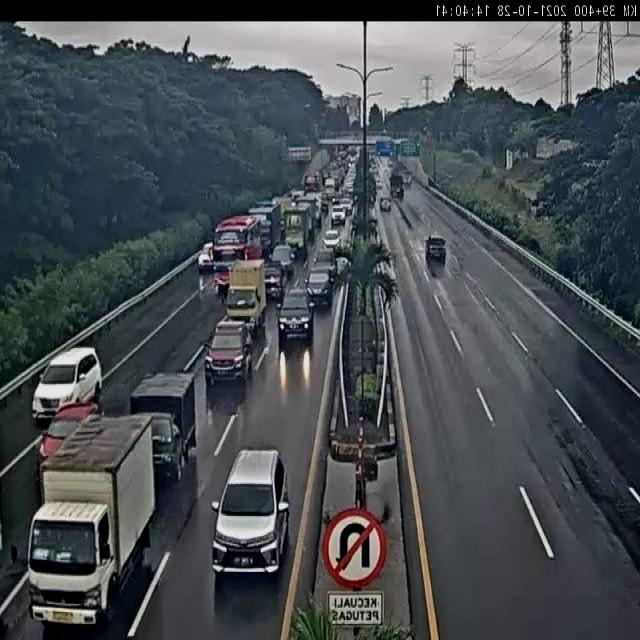Bus: (211, 214, 264, 294), (247, 201, 283, 259)
Car: (211, 446, 290, 575), (34, 345, 104, 425), (204, 320, 254, 387), (277, 288, 313, 349), (306, 270, 334, 310), (270, 244, 294, 282), (426, 234, 446, 261), (314, 249, 335, 274), (323, 229, 341, 251), (335, 256, 350, 279), (332, 206, 346, 226)
Truck: (29, 413, 155, 630), (130, 373, 201, 462), (226, 259, 268, 334), (282, 205, 310, 255)
